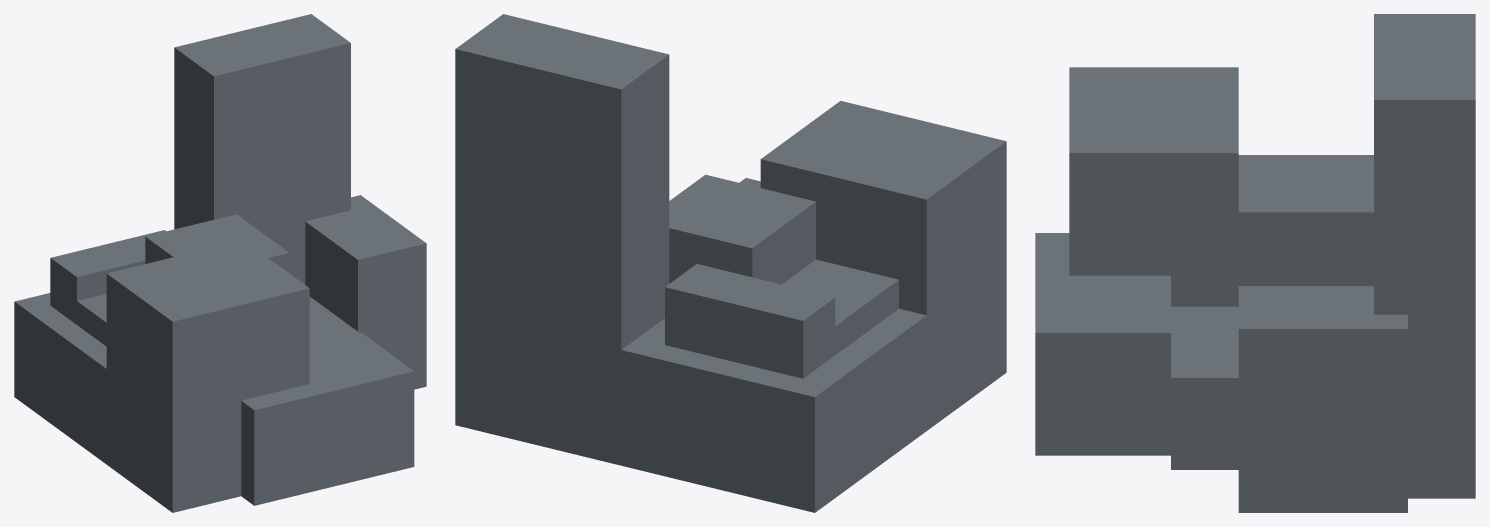
The model's file is rock_5.obj.
3 renders of one model, left to right at view 1: azimuth 30°, elevation 25°; view 2: azimuth 150°, elevation 25°; view 3: azimuth 270°, elevation 25°, orthographic. The views are drawn at different scales.
Bounding box in the file's own units: 14 × 13 × 13.
Materials: 1 (1 with a texture image).
